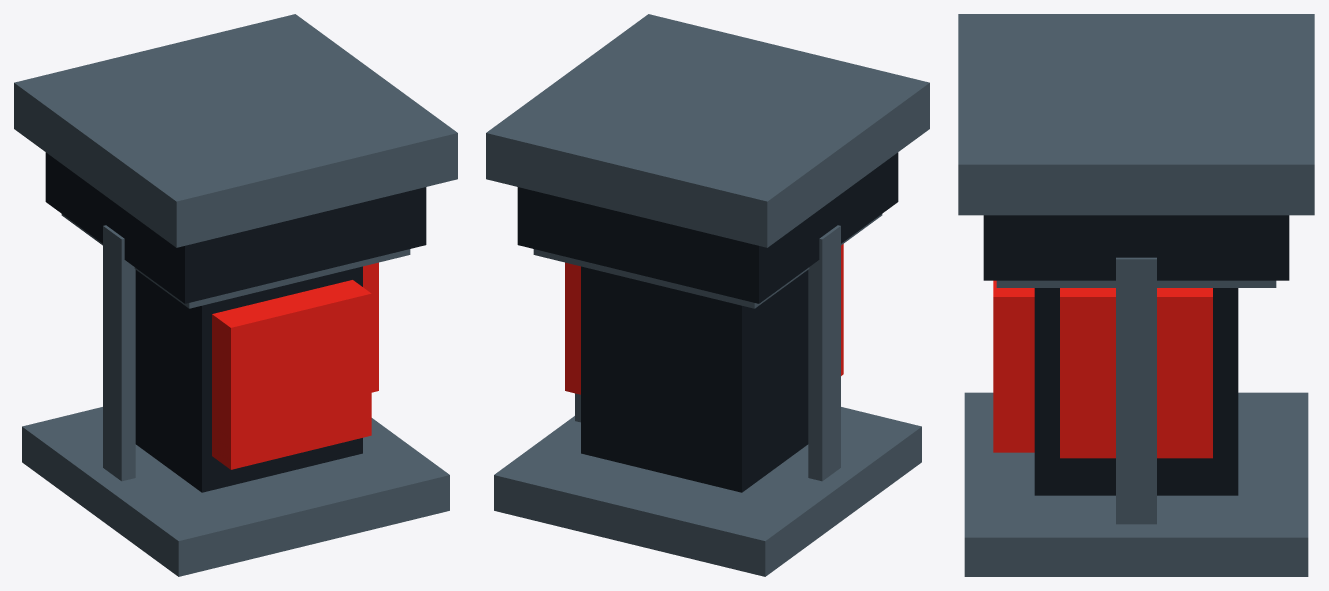
The picture shows the model from 3 angles, left to right: view 1: azimuth 30°, elevation 25°; view 2: azimuth 150°, elevation 25°; view 3: azimuth 270°, elevation 25°; orthographic projection. The views are drawn at different scales.
Parts seen in each view (by area): view 1: P16-06_Steel, P16-06_DarkPanel, P16-06_EmissionRed; view 2: P16-06_Steel, P16-06_DarkPanel, P16-06_EmissionRed; view 3: P16-06_Steel, P16-06_DarkPanel, P16-06_EmissionRed.
Part boxes in pixels (<box>): P16-06_Steel: <box>14,14,457,576</box>; P16-06_DarkPanel: <box>45,152,426,492</box>; P16-06_EmissionRed: <box>212,262,378,469</box>; P16-06_Steel: <box>486,14,929,576</box>; P16-06_DarkPanel: <box>517,152,898,492</box>; P16-06_EmissionRed: <box>565,244,843,394</box>; P16-06_Steel: <box>958,14,1314,576</box>; P16-06_DarkPanel: <box>983,215,1289,495</box>; P16-06_EmissionRed: <box>993,280,1212,458</box>.
Bounding box in the file's own units: 0.28 × 0.36 × 0.28.
